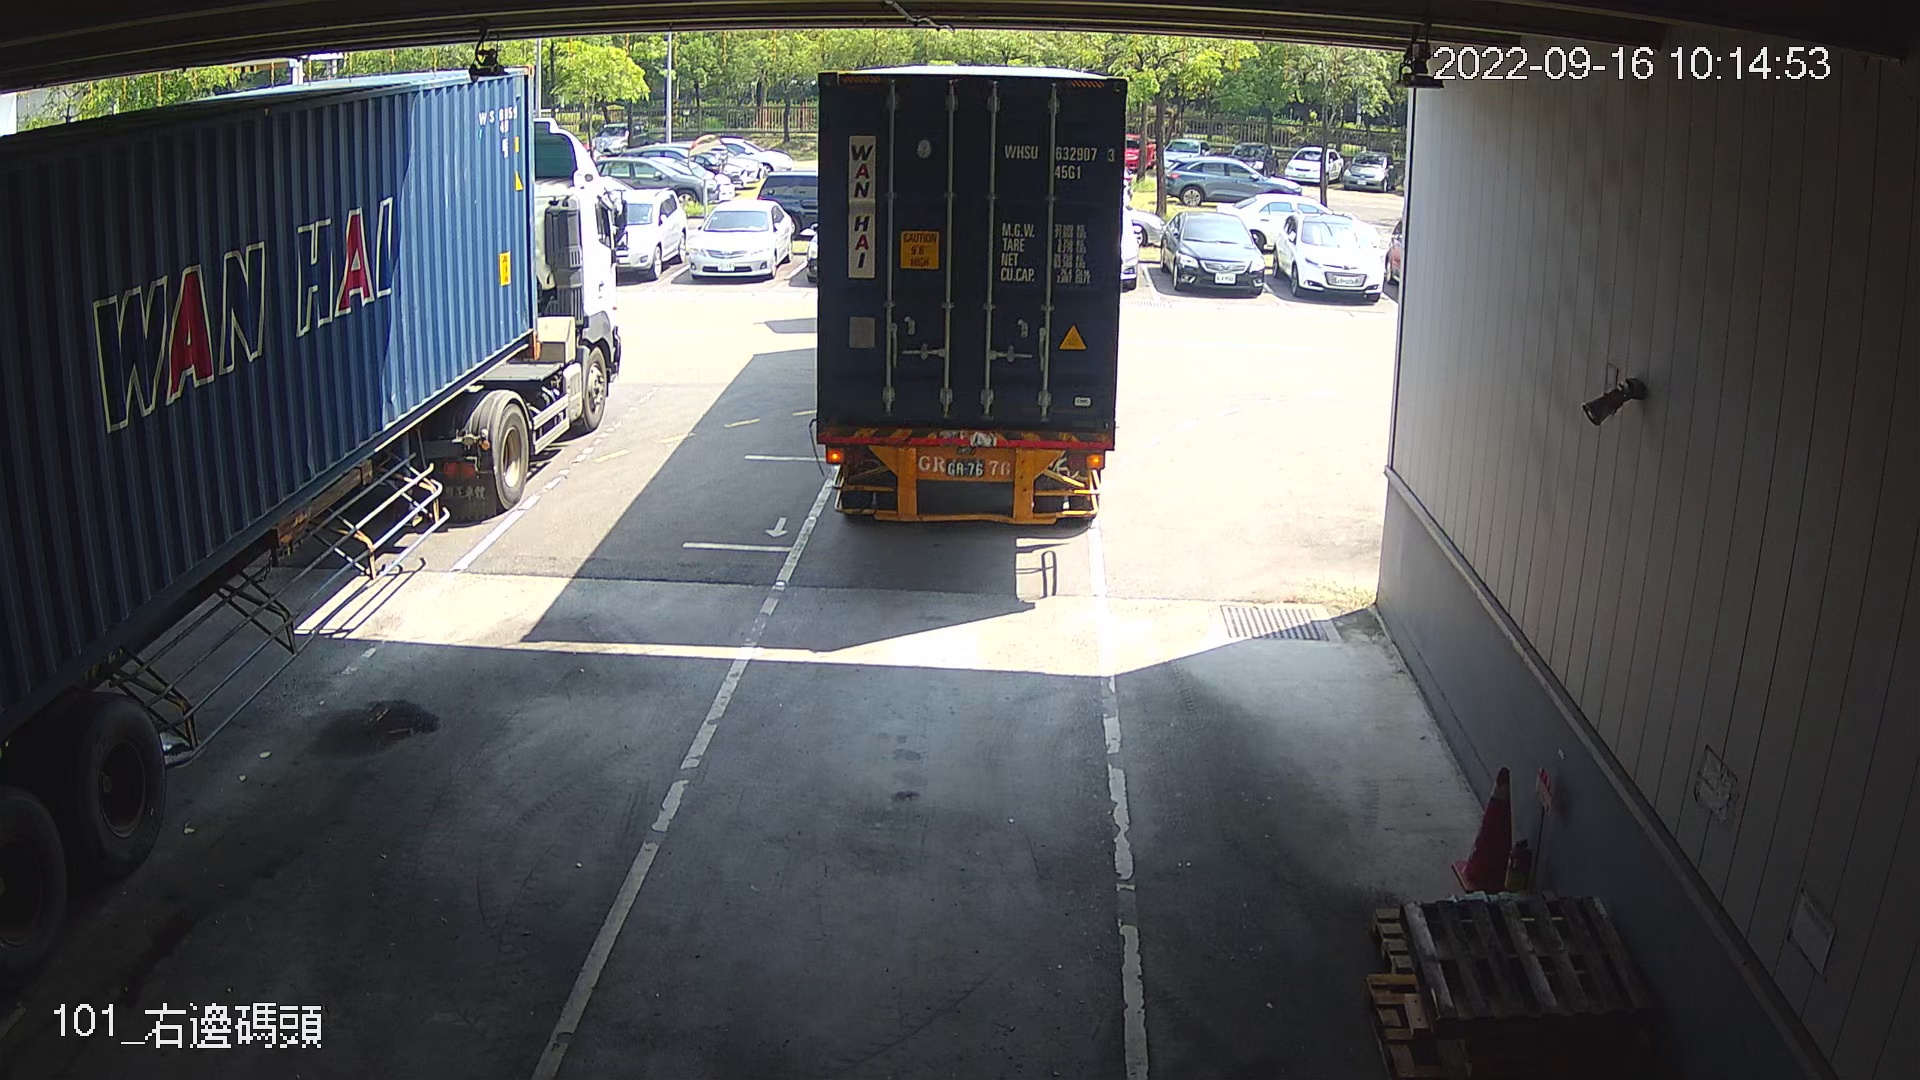container: (998, 138, 1120, 183)
